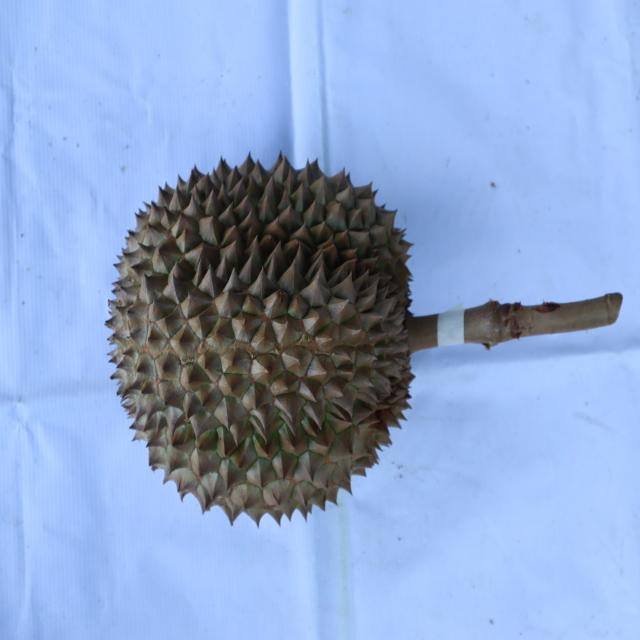mature: (103, 146, 417, 528)
